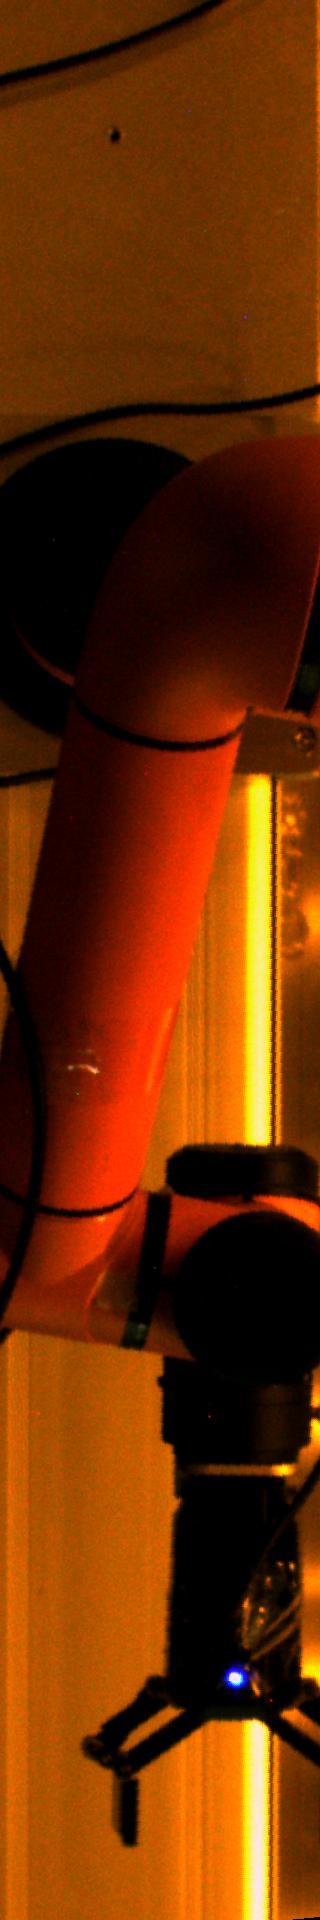keyPoint_1: (219, 1660, 250, 1691)
keyPoint_2: (99, 121, 129, 151)
